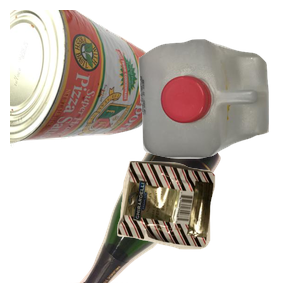glass: (66, 120, 279, 300)
metal: (10, 10, 159, 152)
plastic: (136, 37, 300, 188)
trash: (115, 158, 300, 300)
